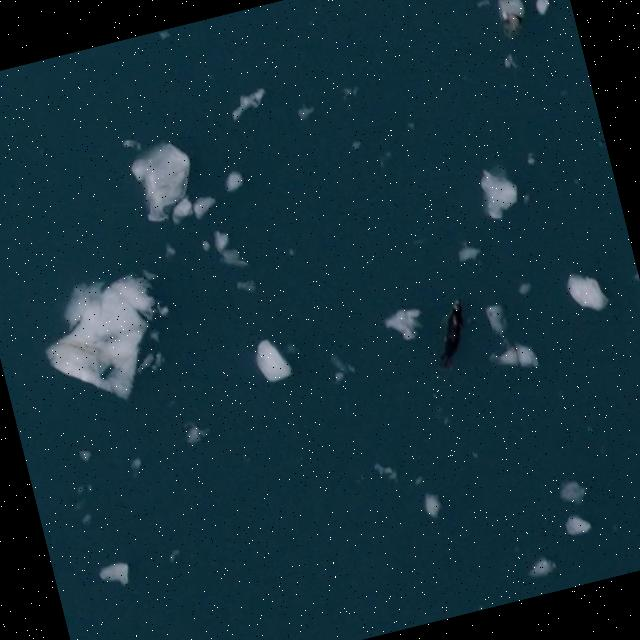seal: (434, 294, 469, 370)
